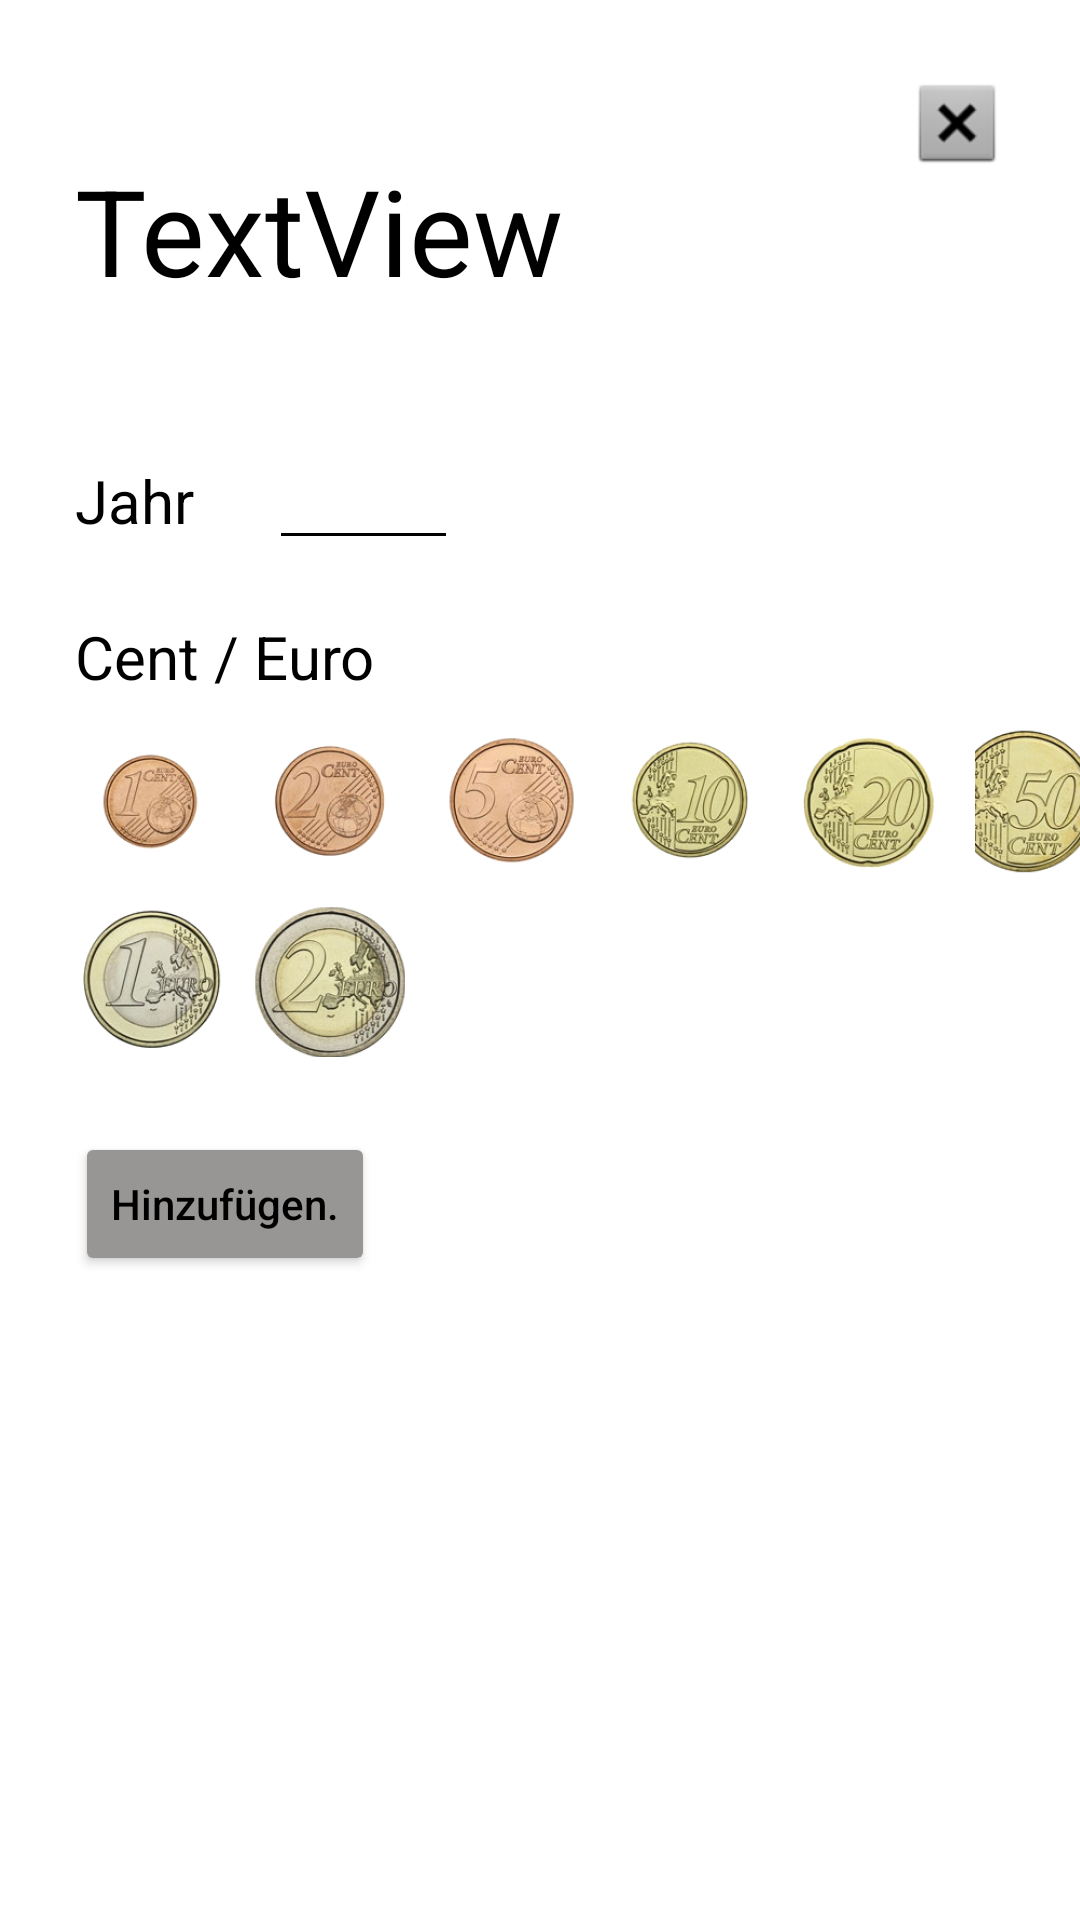

Icons on this 1080x1920 Android screen, each with its box as (x1,y1,x2,y2):
coin ii: (255,907,405,1057)
